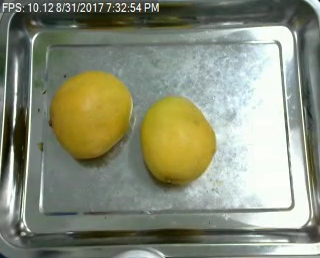Mango: (51, 73, 132, 159), (142, 97, 215, 182)
